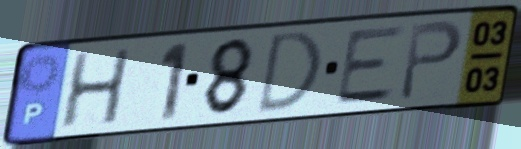1: (158, 38, 193, 124)
8: (198, 35, 259, 119)
D: (253, 27, 326, 118)
E: (332, 22, 410, 108)
H: (56, 45, 134, 131)
P: (395, 17, 466, 104)
